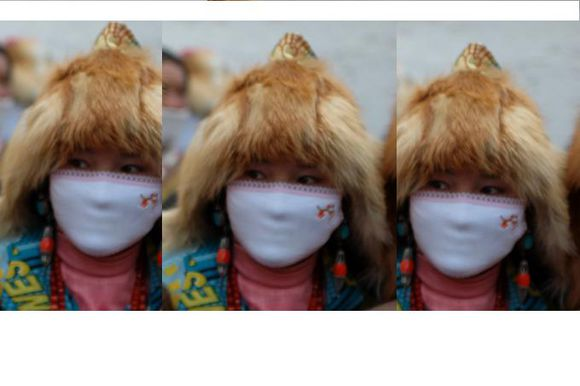face_mask: (409, 145, 527, 277), (228, 136, 344, 263), (51, 128, 160, 259)
